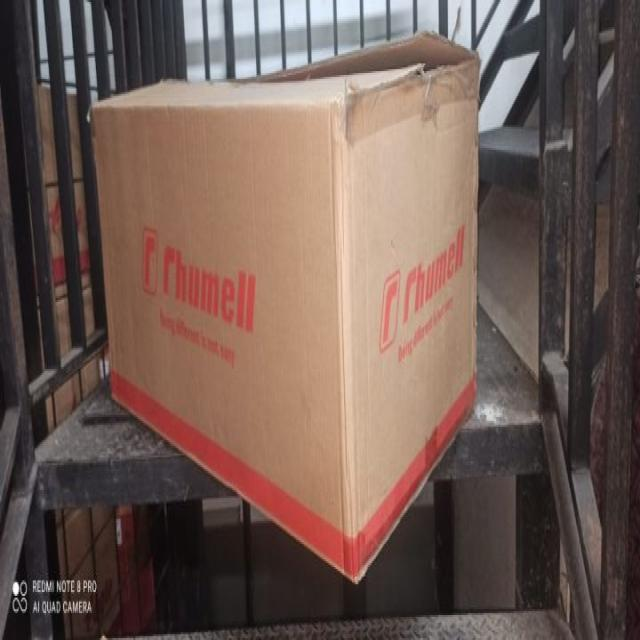Kardus kondisi bagus: (92, 29, 480, 582)
